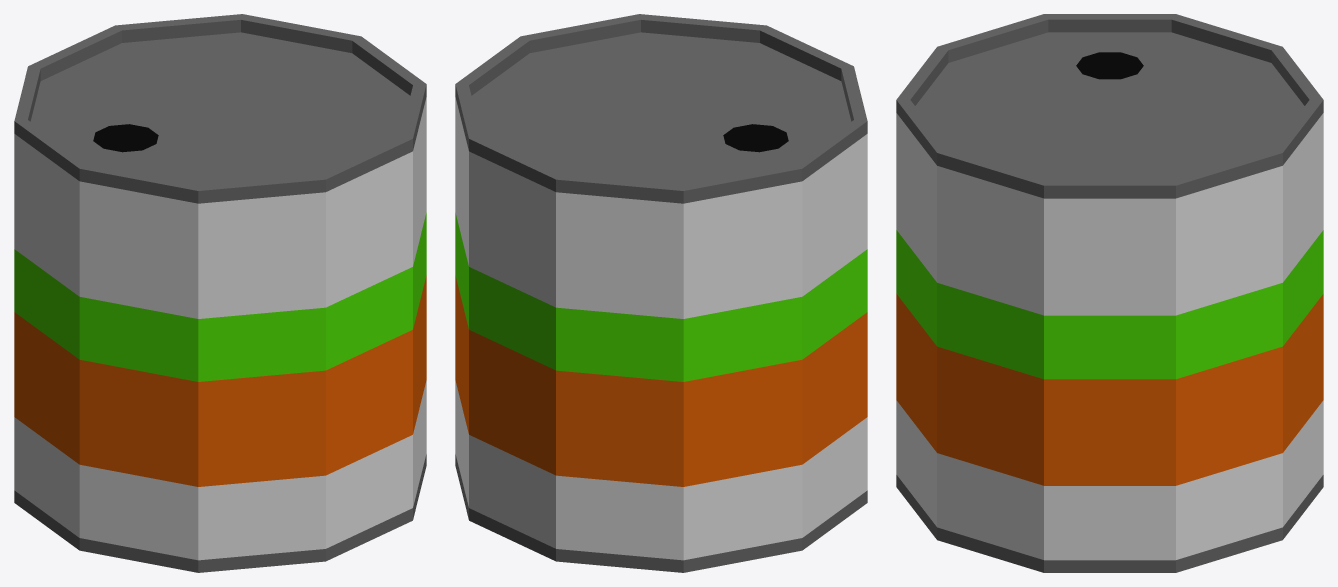
Rendered from Lata_Prop.fbx.
3 views of the same model, side by side, from view 1: azimuth 30°, elevation 25°; view 2: azimuth 150°, elevation 25°; view 3: azimuth 270°, elevation 25° (orthographic).
Visible parts, largest first — view 1: Cylinder.001; view 2: Cylinder.001; view 3: Cylinder.001.
Boxes of the visible parts, x1,y1,x2,y2 form: Cylinder.001: [14, 14, 426, 572]; Cylinder.001: [455, 14, 867, 572]; Cylinder.001: [896, 14, 1323, 572].
Bounding box in the file's own units: 92.25 × 97 × 97.
